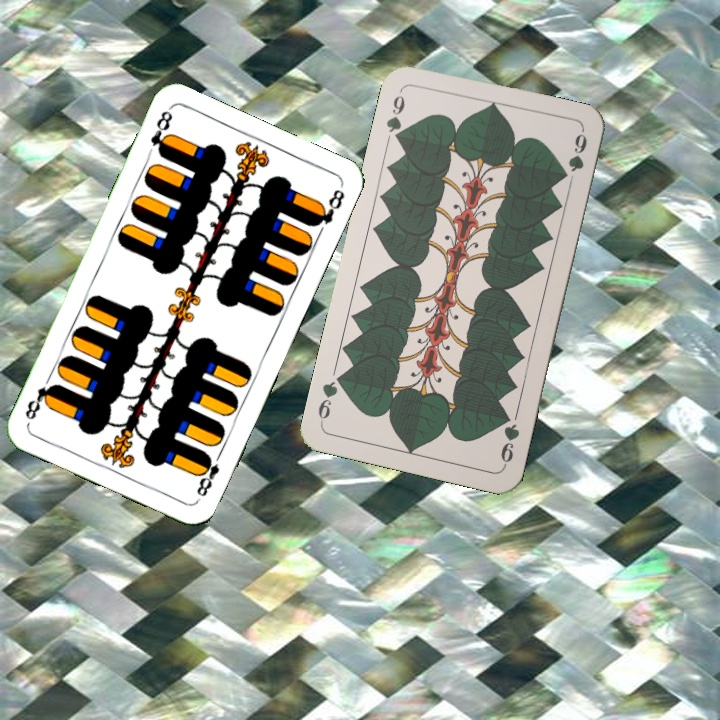E8: (192, 447, 225, 499), (146, 105, 175, 160)
G9: (496, 408, 522, 469), (382, 91, 408, 146)
